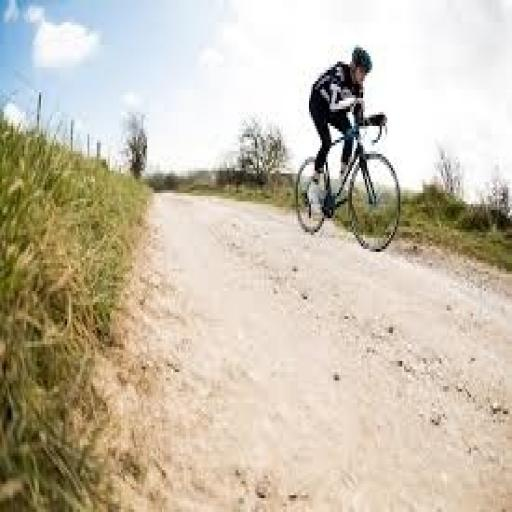cycling: (303, 42, 378, 218)
